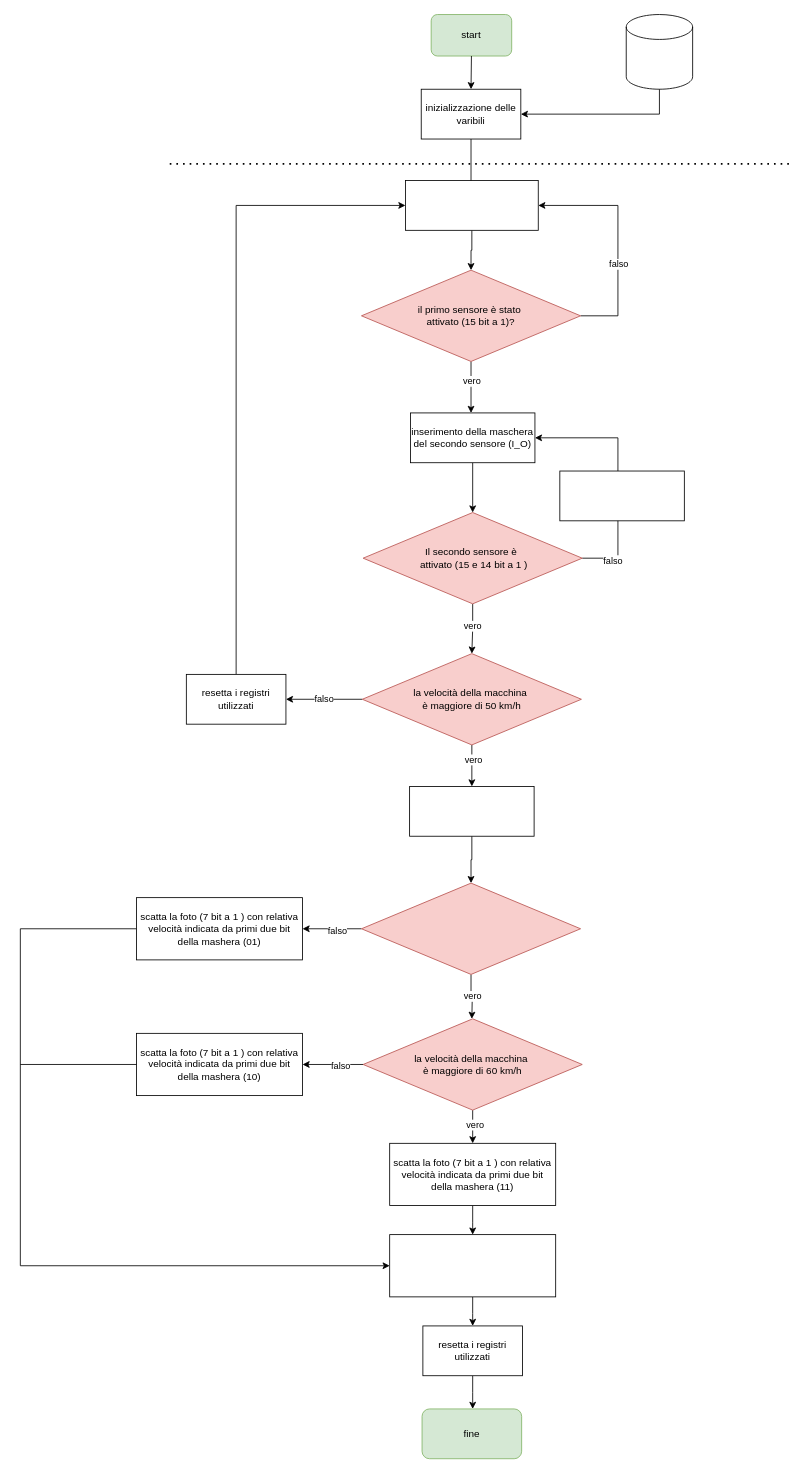
Image size: 808x1473. Some labels were removed from this diagram. The shapes that lost their labels are listed below. From the top down, each one's box as (x1, y1, x2, y2) in pixels, then its label:
(625, 14, 693, 89): cella a 16 bit I_O
(405, 180, 538, 230): inserimento della maschera del primo sensore (I_O)
(559, 470, 684, 521): incrementa i cicli per il calcolo della velocità
(409, 786, 534, 836): aspetto 1 secondo
(361, 882, 581, 974): la velocità della macchina è maggiore di 55 km/h
(389, 1234, 556, 1297): Aspetto 50ms
